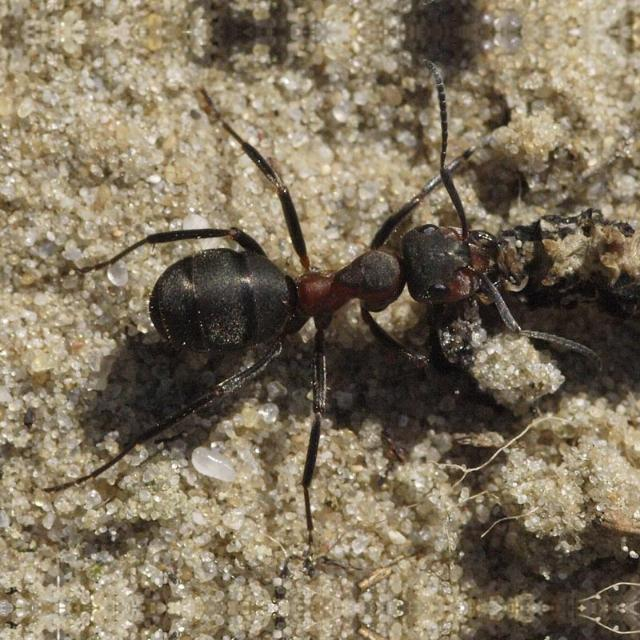Formica: (73, 142, 539, 400)
